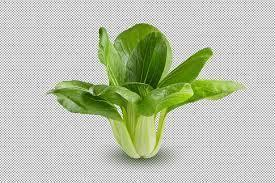Healthy-Pechay: (61, 13, 233, 165)
